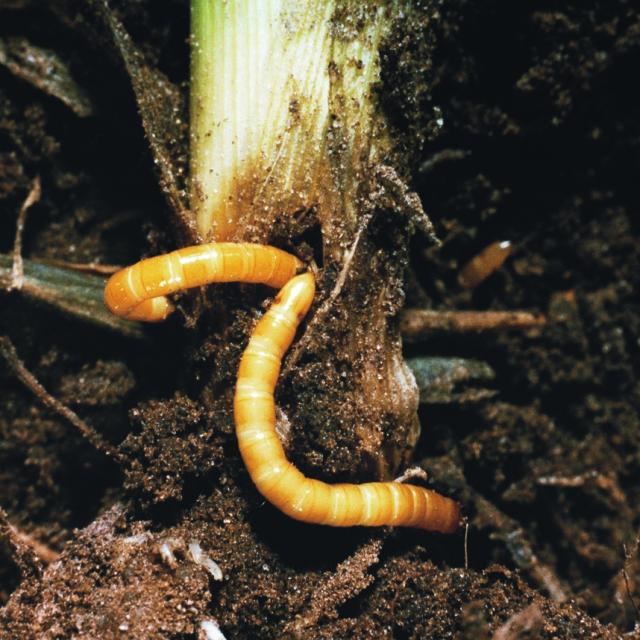wireworm: (236, 270, 470, 561), (103, 248, 316, 328)
